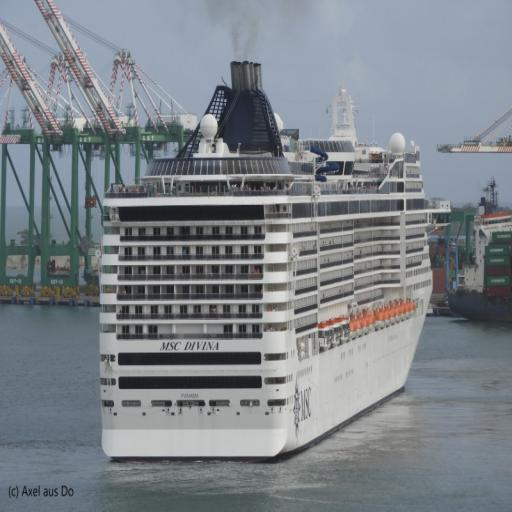cruises: (90, 51, 437, 462)
